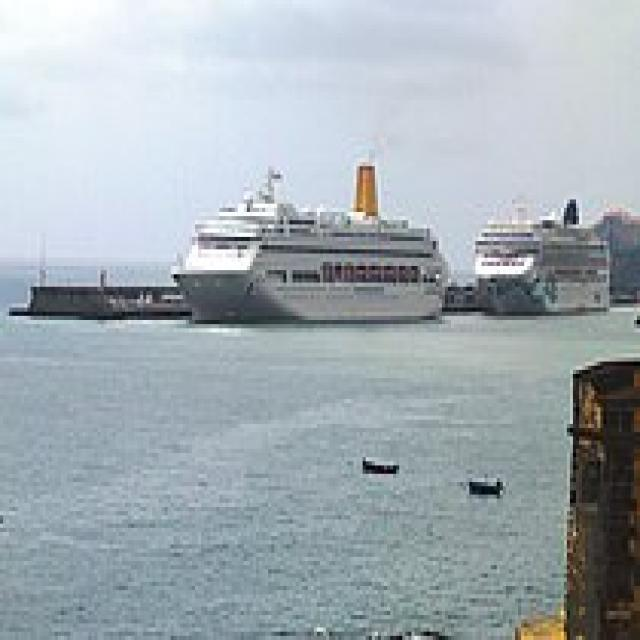Ship: (166, 167, 468, 346), (461, 196, 629, 342)
